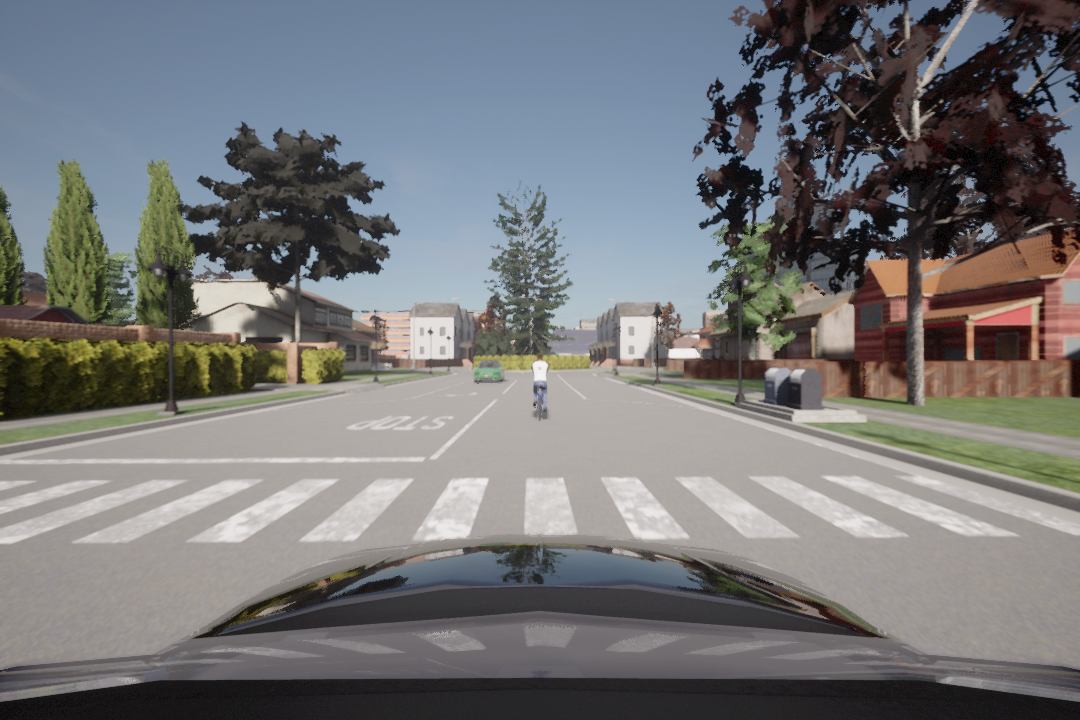walkside: (1, 474, 1071, 554)
